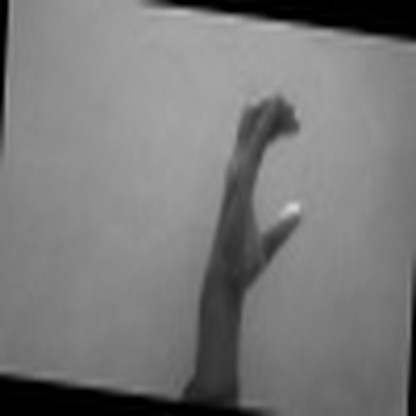c: (207, 87, 309, 285)
